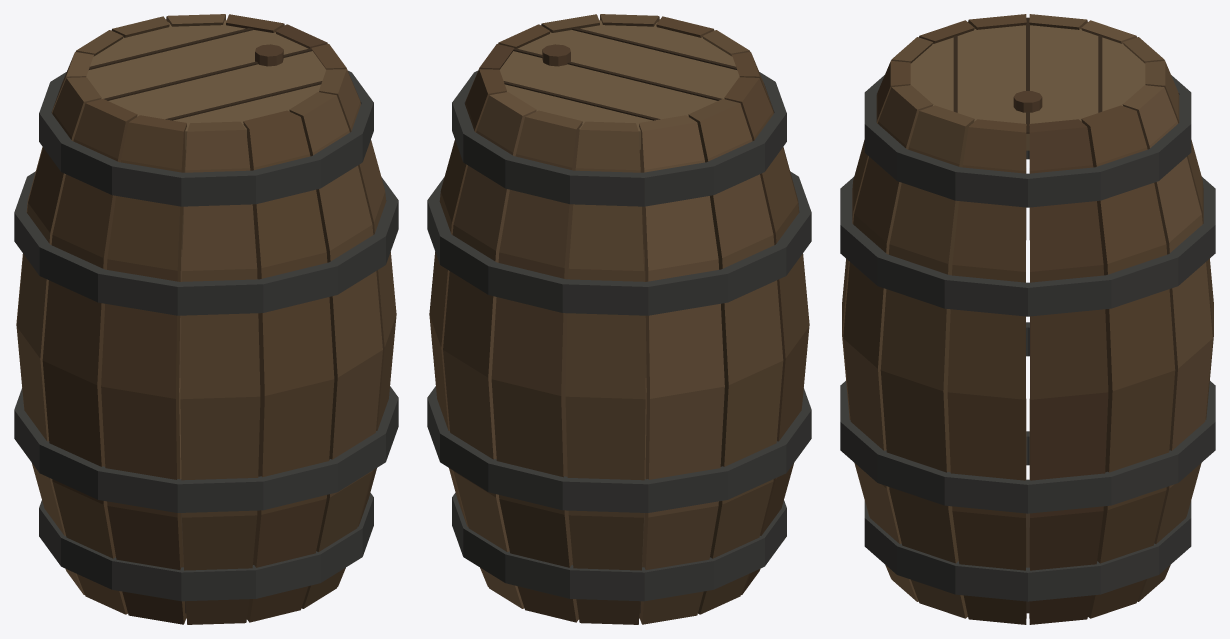
File: barrel_oak.glb
3 views of the same model, side by side, from view 1: azimuth 30°, elevation 25°; view 2: azimuth 150°, elevation 25°; view 3: azimuth 270°, elevation 25° (orthographic).
Parts seen in each view (by area): view 1: barrel_oak_Geometry; view 2: barrel_oak_Geometry; view 3: barrel_oak_Geometry.
Boxes of the visible parts, x1=… form: barrel_oak_Geometry: x1=14, y1=14, x2=398, y2=624; barrel_oak_Geometry: x1=427, y1=14, x2=811, y2=624; barrel_oak_Geometry: x1=840, y1=14, x2=1215, y2=624.
Bounding box in the file's own units: 0.85 × 1.22 × 0.8287.
